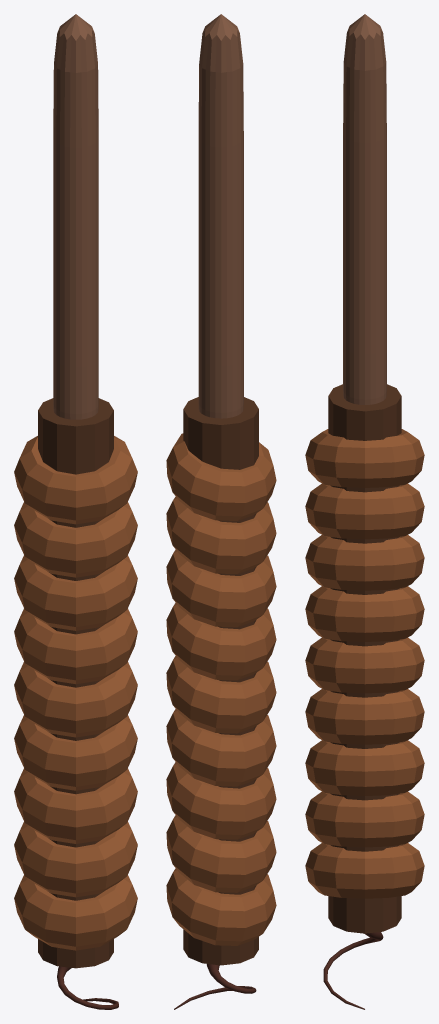
Rendered from Wand 419.glb.
3 renders of one model, left to right at view 1: azimuth 90°, elevation 25°; view 2: azimuth 150°, elevation 25°; view 3: azimuth 270°, elevation 25°, orthographic. The views are drawn at different scales.
Visible parts, largest first — view 1: GeneratedWand; view 2: GeneratedWand; view 3: GeneratedWand.
Part boxes in pixels (x1,y1,x2,y2): GeneratedWand: [14, 14, 137, 1009]; GeneratedWand: [166, 14, 276, 1009]; GeneratedWand: [305, 14, 424, 1009].
Size of the model in its own units: 0.0508 by 0.5233 by 0.0581.
